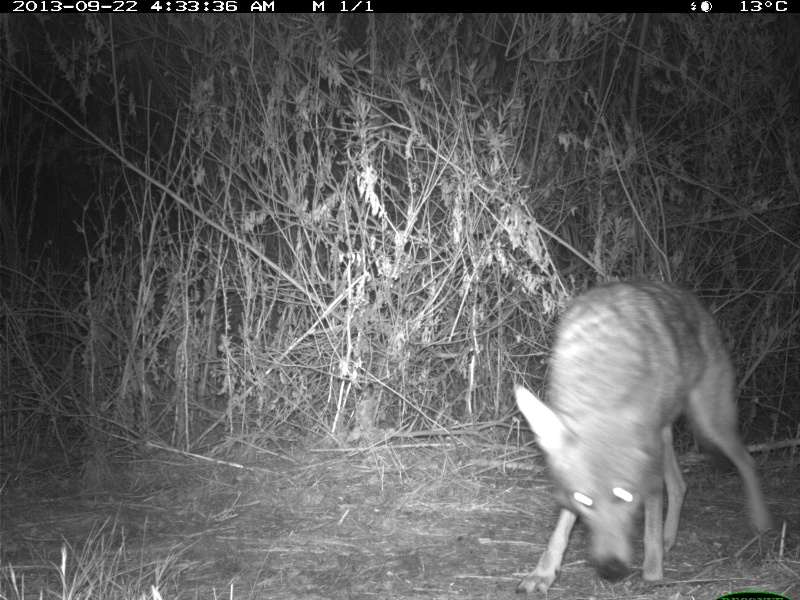coyote: (513, 283, 766, 594)
